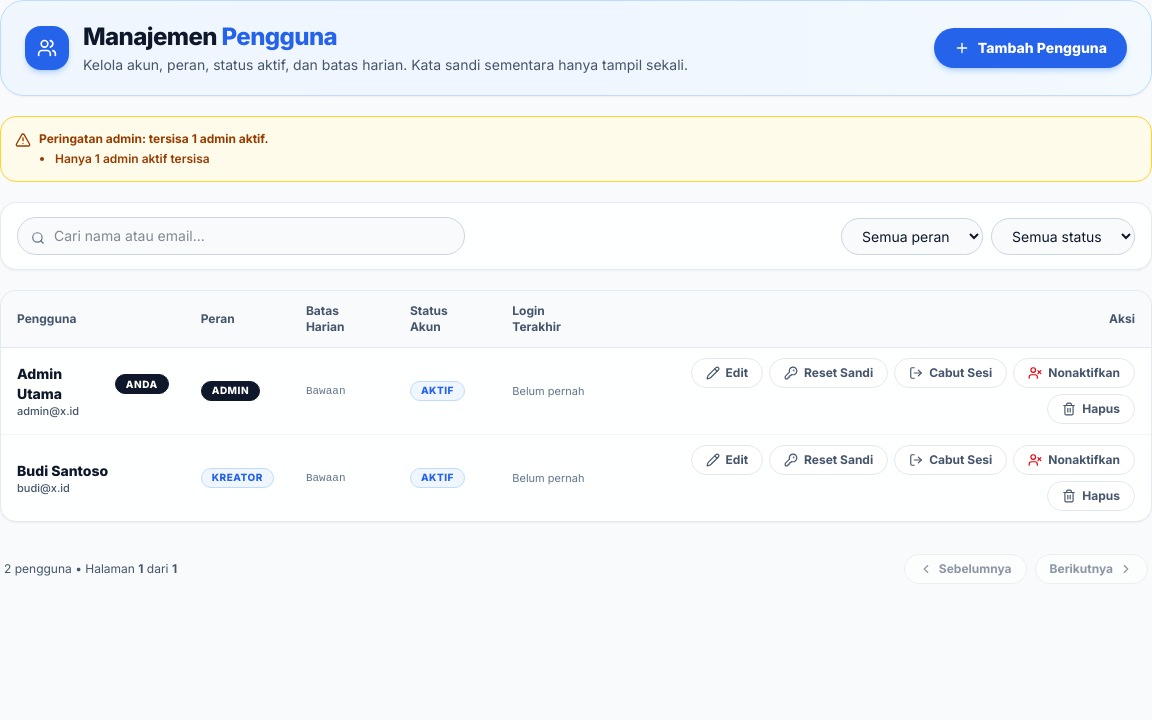
AdminUsers › maps CANNOT_MODIFY_SELF to a clear message when deleting yourself
What coordinates should you click on to do the following:
click the button with aria-label "Hapus Admin Utama"
I would click on:
 (1091, 409)
Its box is [1047,394,1135,424].
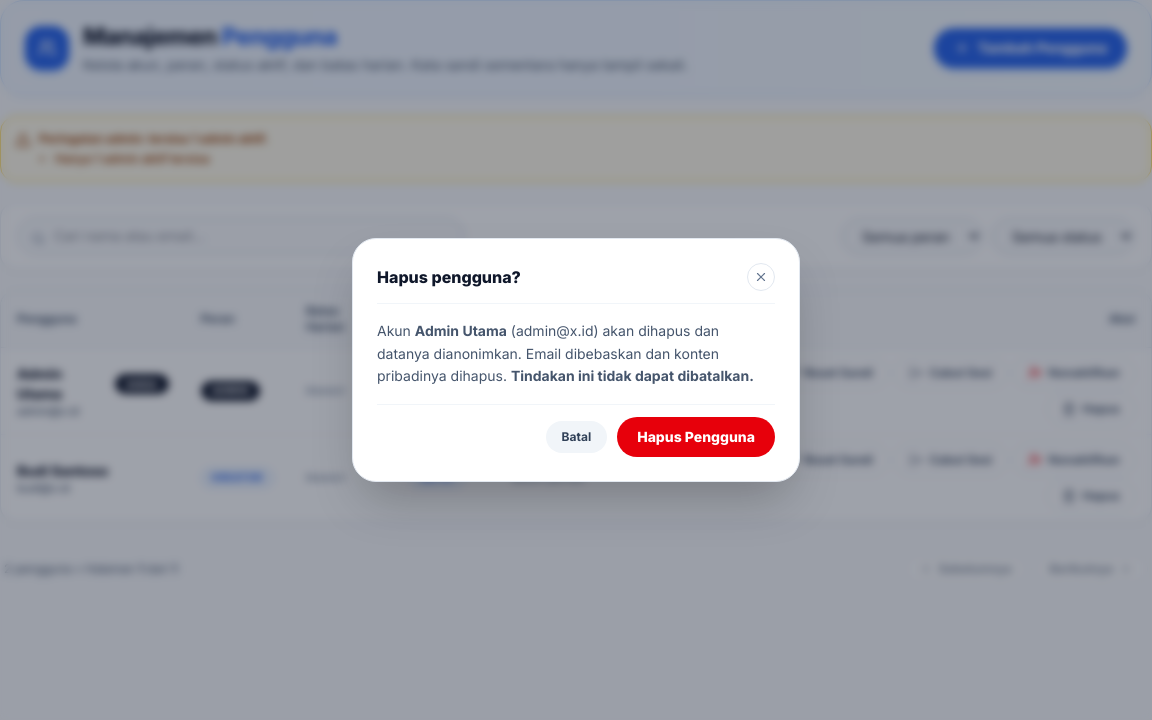
What coordinates should you click on to do the following:
click the button "Hapus Pengguna"
I would click on:
 (696, 437)
Its box is [617,417,775,457].
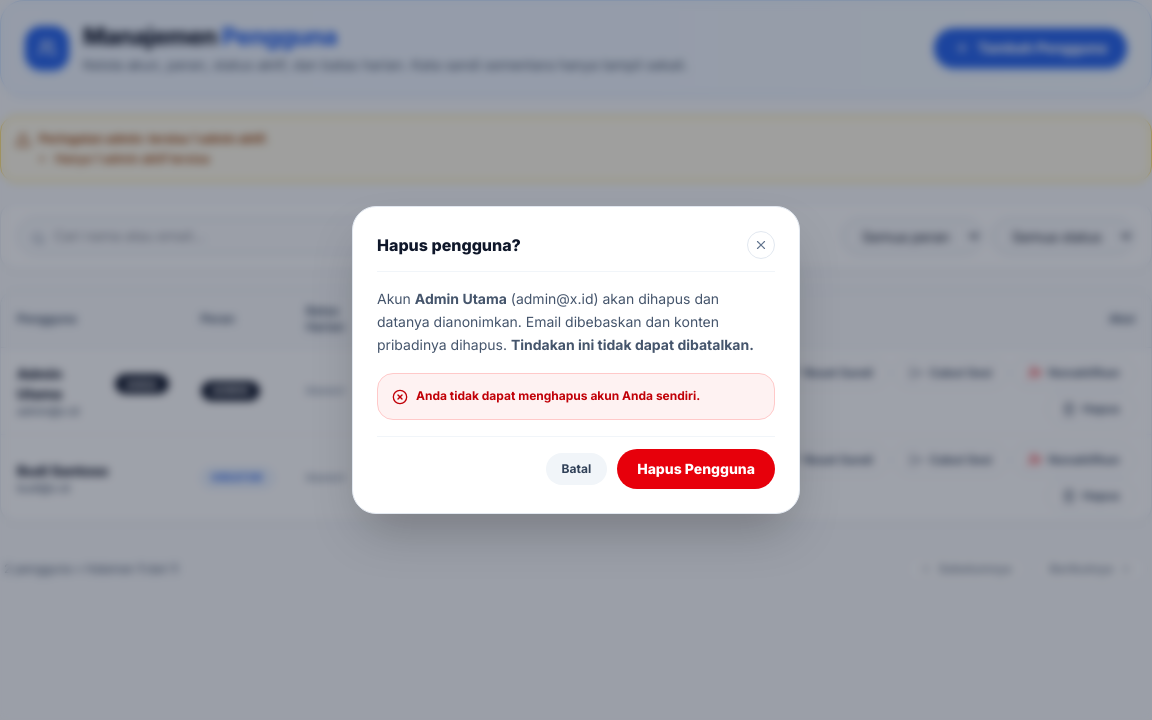
Check: the message reads "Anda tidak dapat menghapus akun Anda sendiri.", box [416,388,700,403]
